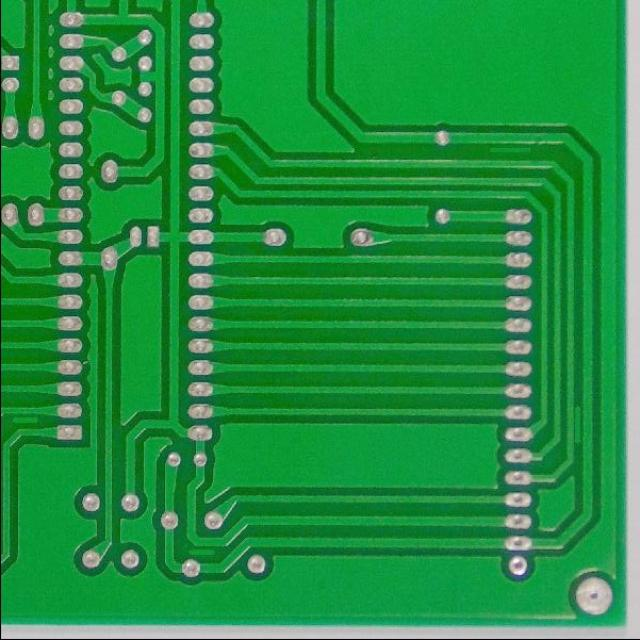spurious_copper: (488, 143, 534, 163), (568, 402, 586, 451), (8, 411, 42, 432), (184, 542, 218, 563)
